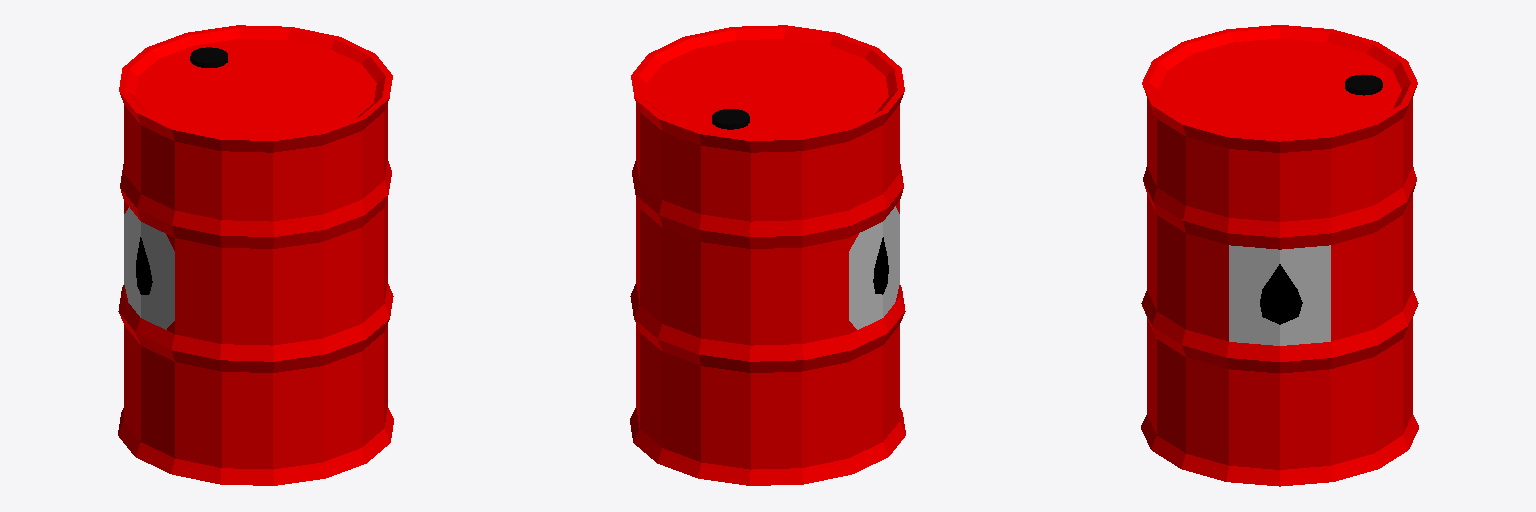
The model's file is OidDrum.obj.
The picture shows the model from 3 angles: view 1: azimuth 30°, elevation 25°; view 2: azimuth 150°, elevation 25°; view 3: azimuth 270°, elevation 25°; orthographic projection.
Parts seen in each view (by area): view 1: Cylinder, Cylinder.001; view 2: Cylinder, Cylinder.001; view 3: Cylinder, Cylinder.001.
Part boxes in pixels (x1,y1,x2,y2): Cylinder: (118, 25, 393, 485); Cylinder.001: (190, 47, 227, 67); Cylinder: (630, 25, 905, 485); Cylinder.001: (712, 109, 749, 129); Cylinder: (1141, 25, 1418, 486); Cylinder.001: (1345, 74, 1382, 95).
Size of the model in its own units: 1.47 by 2.01 by 1.47.